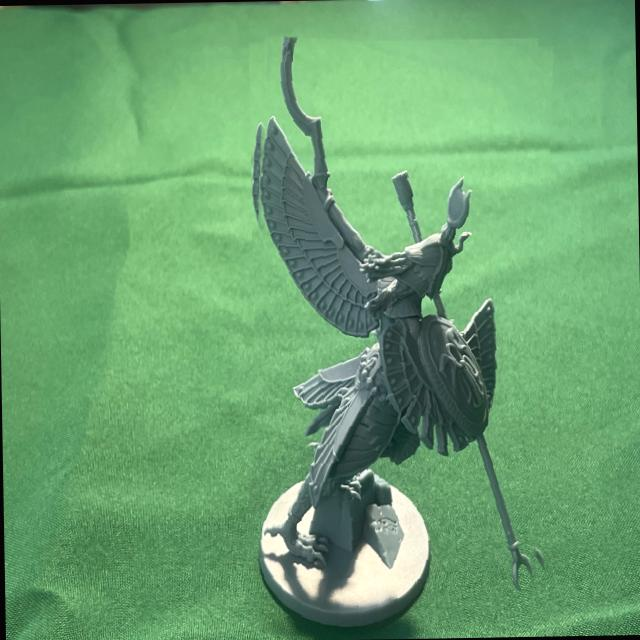isis: (240, 33, 555, 640)
